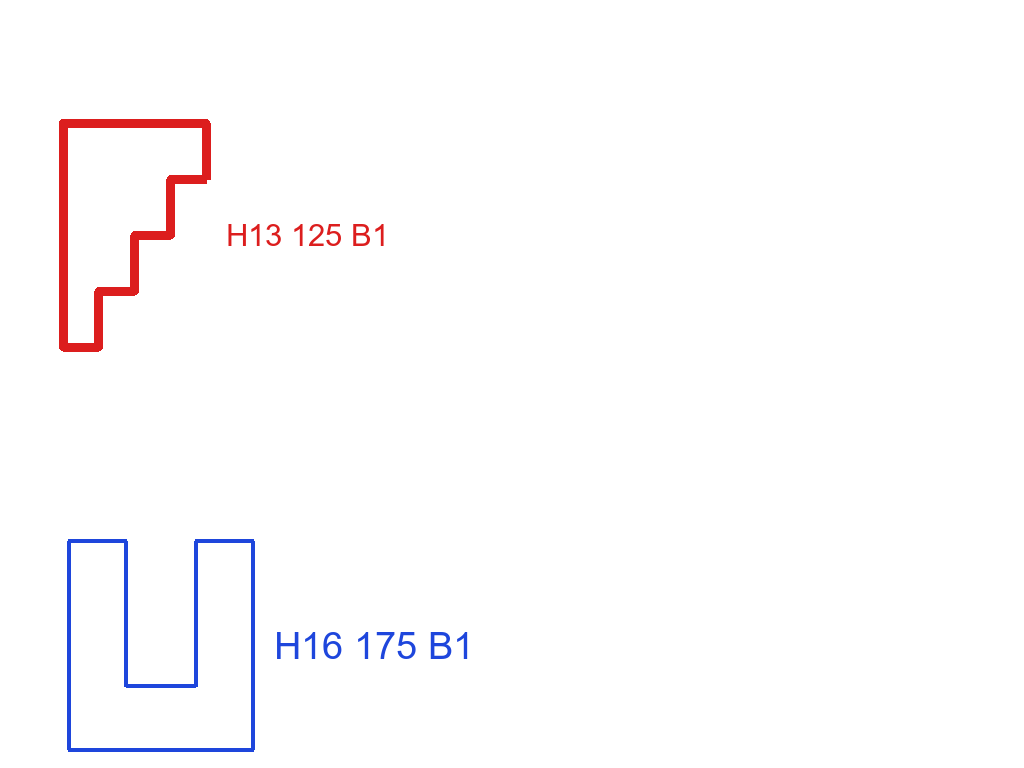shape: (64, 538, 258, 754), (57, 117, 213, 354)
text: (272, 630, 476, 661), (224, 222, 391, 248)
